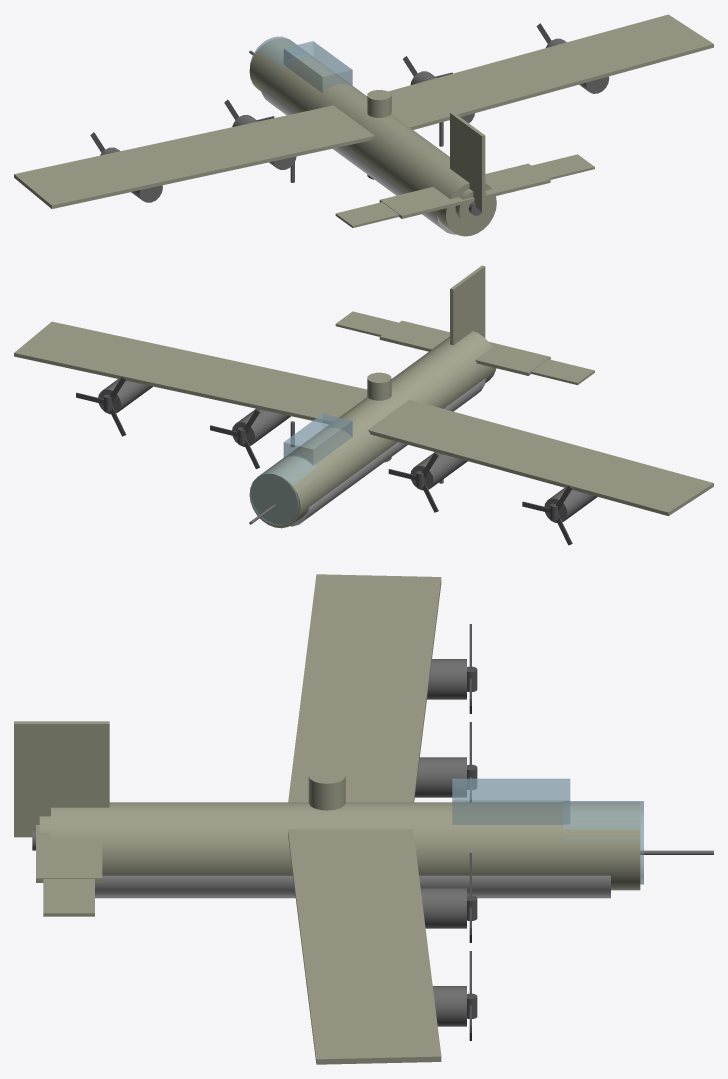
The model's file is bomber.glb.
The picture shows the model from 3 angles, top to bottom: view 1: azimuth 30°, elevation 25°; view 2: azimuth 150°, elevation 25°; view 3: azimuth 270°, elevation 25°; orthographic projection. The views are drawn at different scales.
Parts seen in each view (by area): view 1: Hull; view 2: Hull; view 3: Hull.
Boxes of the visible parts, x1=… form: Hull: x1=14, y1=14, x2=713, y2=236; Hull: x1=14, y1=265, x2=713, y2=528; Hull: x1=14, y1=574, x2=643, y2=1064.
Bounding box in the file's own units: 31.16 × 5.2 × 19.
